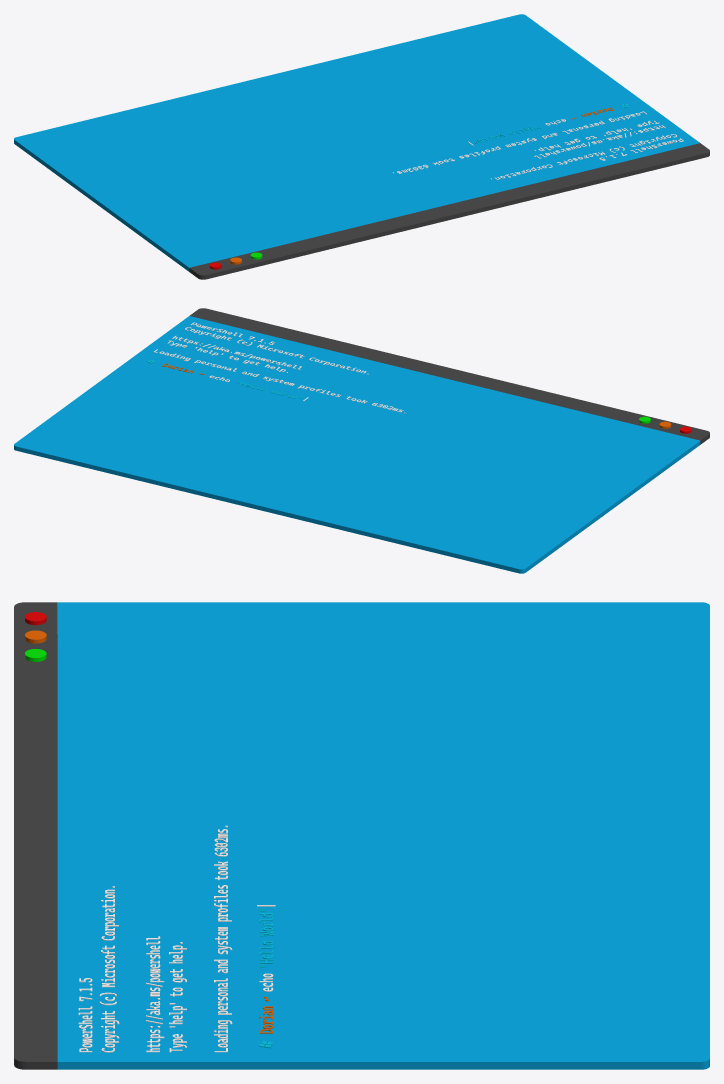
Rendered from Terminal.gltf.
The picture shows the model from 3 angles, top to bottom: view 1: azimuth 30°, elevation 25°; view 2: azimuth 150°, elevation 25°; view 3: azimuth 270°, elevation 25°; orthographic projection. The views are drawn at different scales.
Parts seen in each view (by area): view 1: Terminal v7; view 2: Terminal v7; view 3: Terminal v7.
Boxes of the visible parts, left/top/right/bottom form: Terminal v7: left=14, top=14, right=709, bottom=279; Terminal v7: left=14, top=308, right=709, bottom=573; Terminal v7: left=14, top=602, right=709, bottom=1069.
Bounding box in the file's own units: 31.25 × 0.375 × 20.
